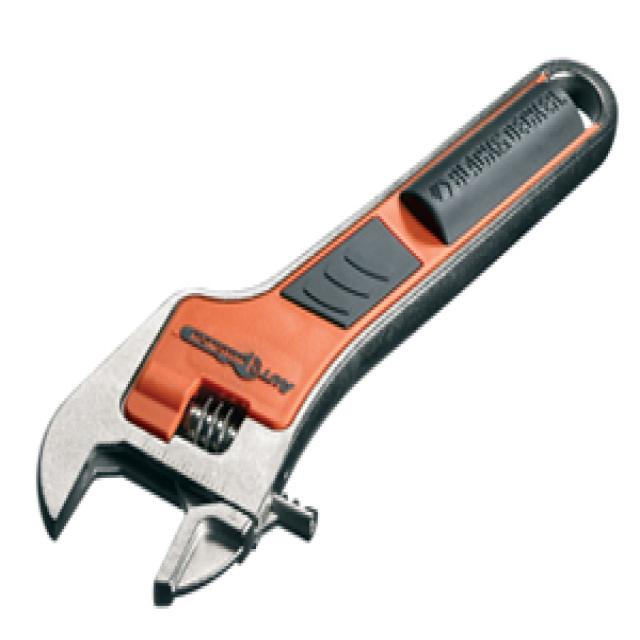wrench: (21, 168, 386, 640)
